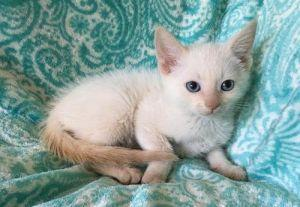siamese: (155, 15, 262, 128), (261, 129, 262, 131)
